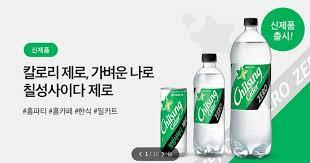chilsungcider_zero: (159, 86, 189, 155)
